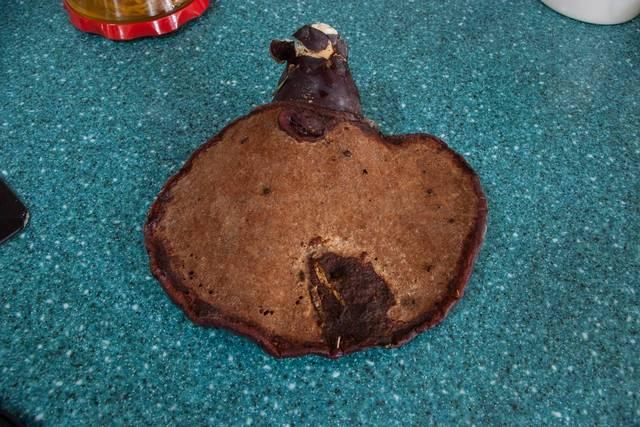poisonous_mushroom: (142, 20, 489, 360)
